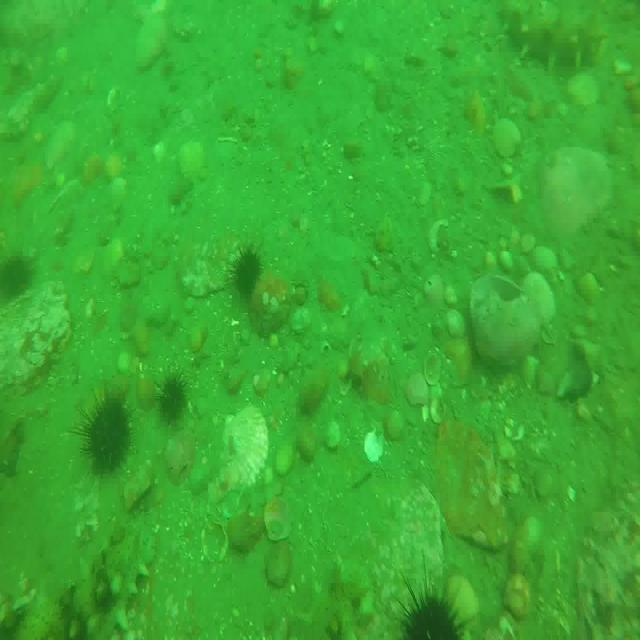echinus: (392, 572, 465, 640), (82, 392, 133, 470), (0, 240, 35, 298), (232, 244, 264, 298), (156, 371, 187, 418)
holothurian: (0, 518, 156, 640)
scallop: (220, 408, 269, 488), (422, 349, 448, 426), (501, 573, 533, 625), (196, 517, 228, 567), (262, 488, 290, 545), (491, 115, 521, 159), (363, 424, 386, 467)
